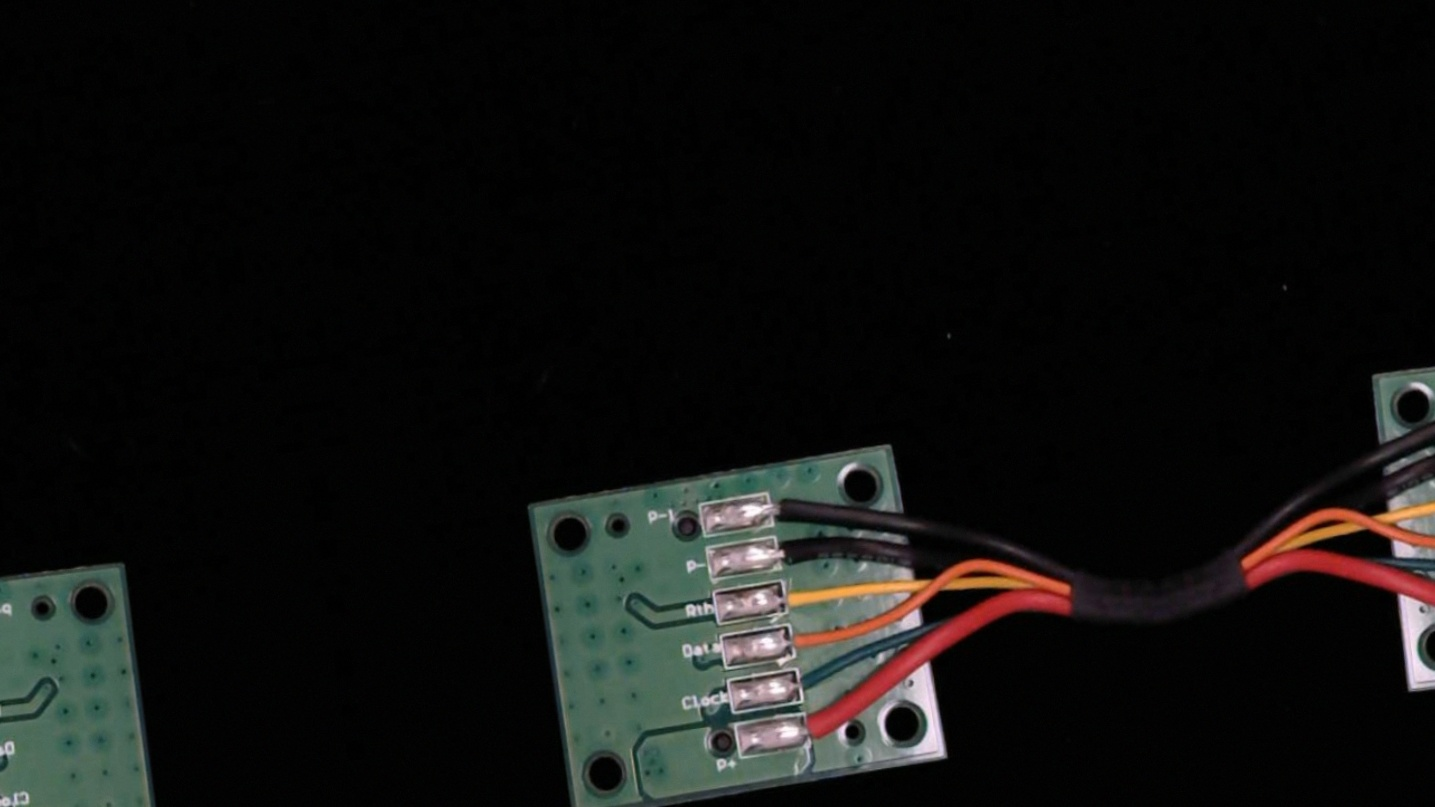Black: (755, 527, 843, 578)
Black1: (751, 482, 832, 531)
Green: (775, 660, 844, 706)
Orange: (770, 615, 846, 662)
Red: (778, 700, 862, 750)
Yellow: (764, 571, 853, 622)
